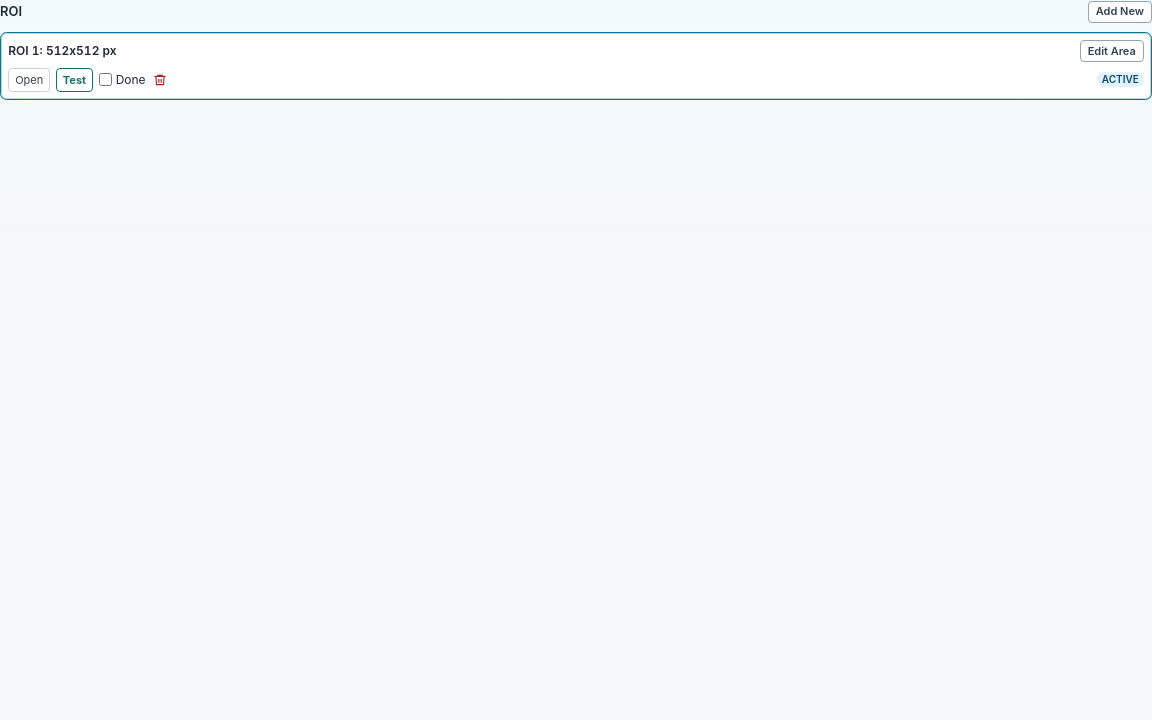
Scenario: ErRoiControls › explains the scope of a deletion before it happens
The width and height of the screenshot is (1152, 720).
Click the button named "delete roi 1": (160, 80) 151,68 -> 169,92
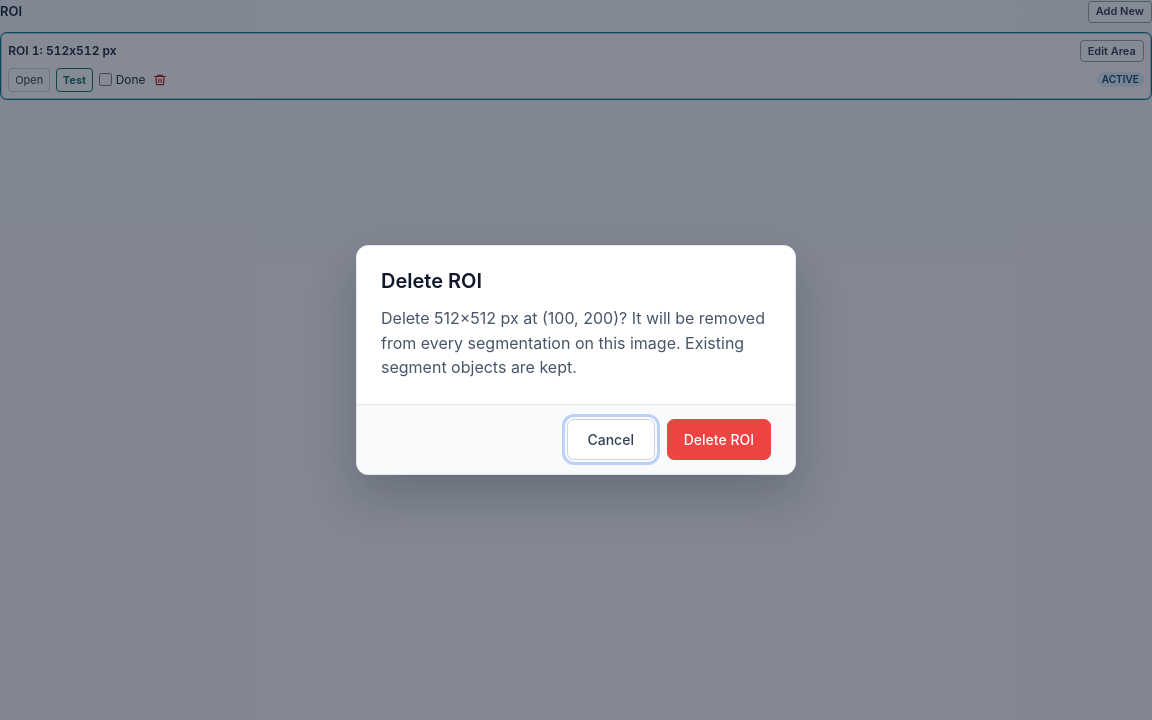
Now the text "removed from every segmentation on this image" is shown, box 381,308 -> 765,377
